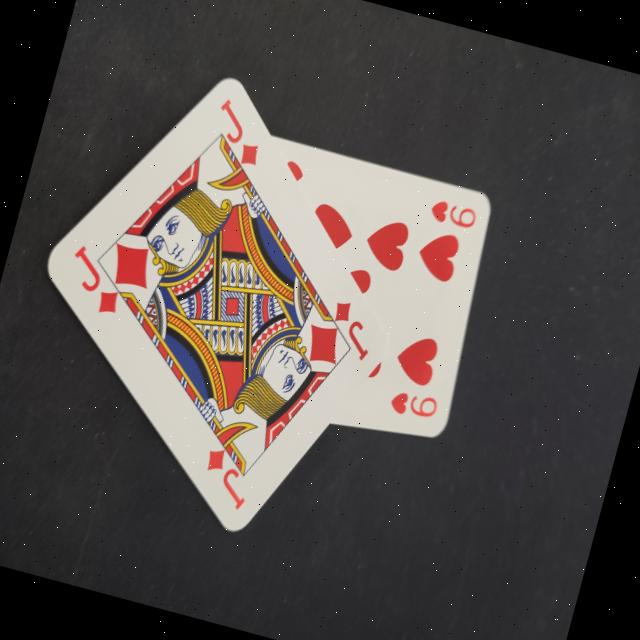9h: (373, 378, 442, 436), (414, 186, 483, 242)
Jd: (195, 90, 276, 184), (54, 238, 135, 328), (188, 438, 260, 514), (315, 290, 384, 368)
